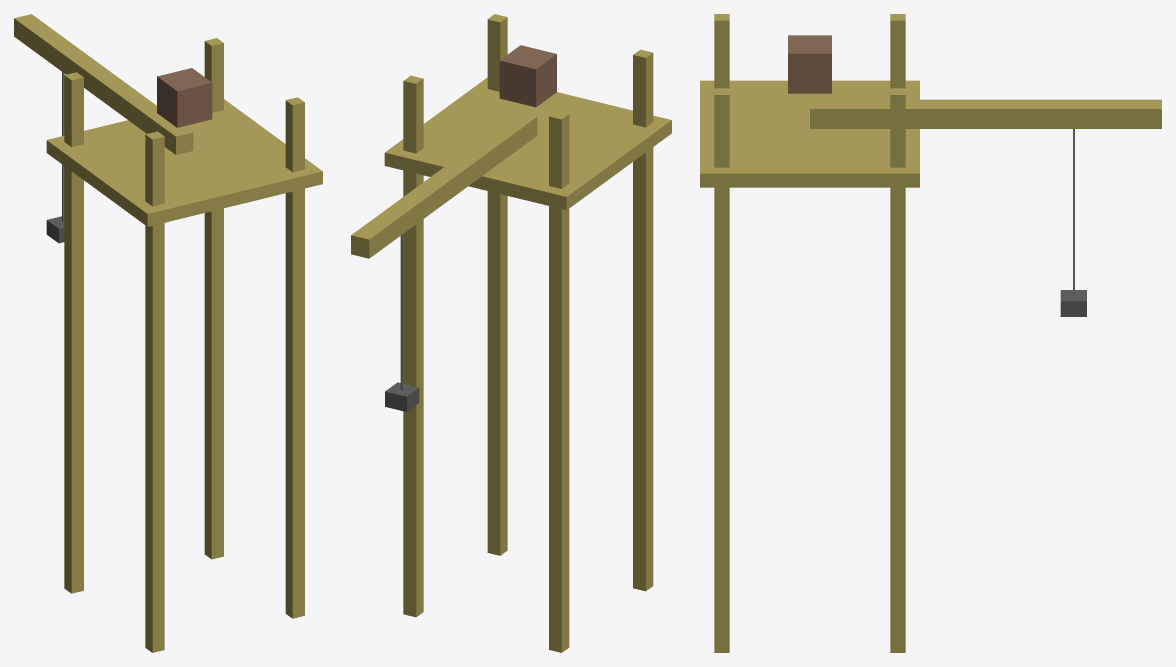
Rendered from i_crane.glb.
The picture shows the model from 3 angles, left to right: view 1: azimuth 30°, elevation 25°; view 2: azimuth 150°, elevation 25°; view 3: azimuth 270°, elevation 25°; orthographic projection. The views are drawn at different scales.
Parts seen in each view (by area): view 1: body; view 2: body; view 3: body.
Part boxes in pixels (left/top/right/bottom): body: left=14, top=14, right=322, bottom=652; body: left=351, top=14, right=671, bottom=652; body: left=700, top=14, right=1161, bottom=652.
Bounding box in the file's own units: 10 × 28.5 × 21.
